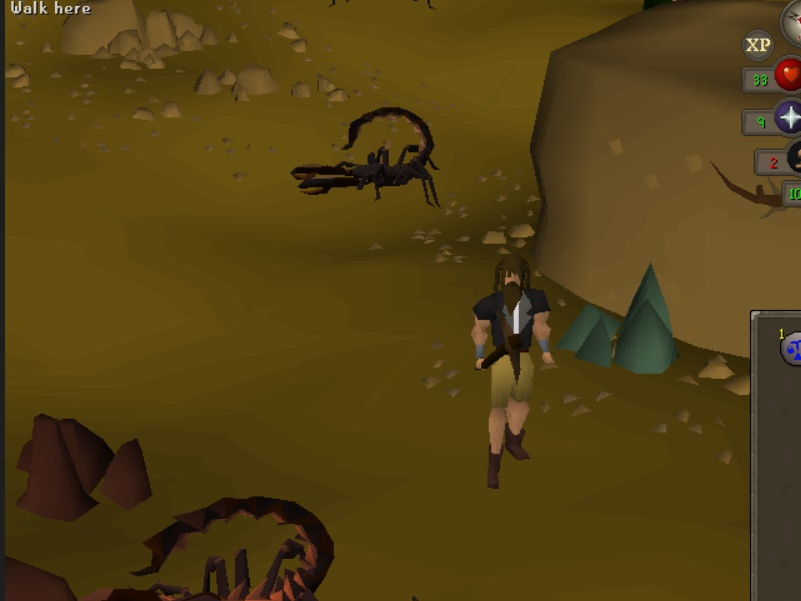adamant: (550, 252, 685, 380)
iron: (11, 401, 163, 522)
